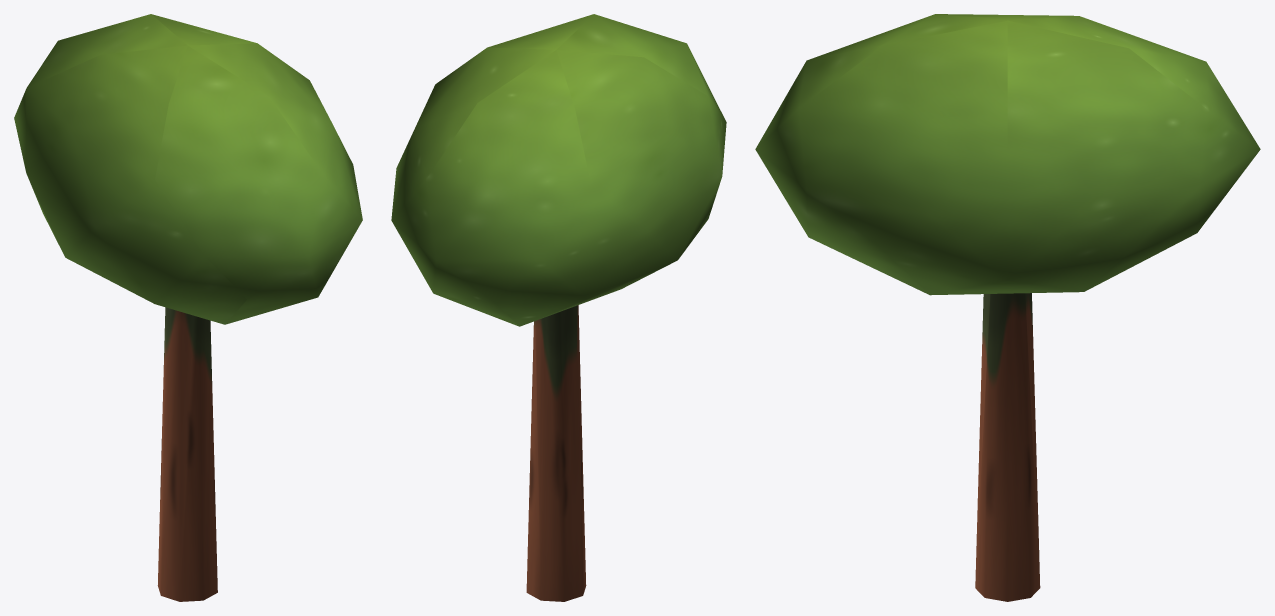
3 views of the same model, side by side, from view 1: azimuth 30°, elevation 25°; view 2: azimuth 150°, elevation 25°; view 3: azimuth 270°, elevation 25° (orthographic). The views are drawn at different scales.
Parts seen in each view (by area): view 1: nature_leaf_tree.2; view 2: nature_leaf_tree.2; view 3: nature_leaf_tree.2.
Boxes of the visible parts, <box> form: nature_leaf_tree.2: <box>14,14,362,601</box>; nature_leaf_tree.2: <box>391,14,726,601</box>; nature_leaf_tree.2: <box>755,14,1260,601</box>.
Size of the model in its own units: 0.6111 by 1.23 by 0.9925.
1 material, 1 textured.
